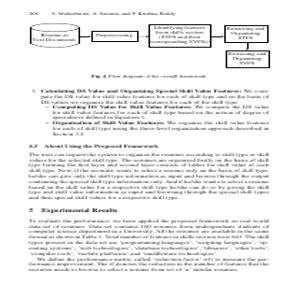diagram: (25, 19, 272, 74)
text: (22, 83, 274, 277)
